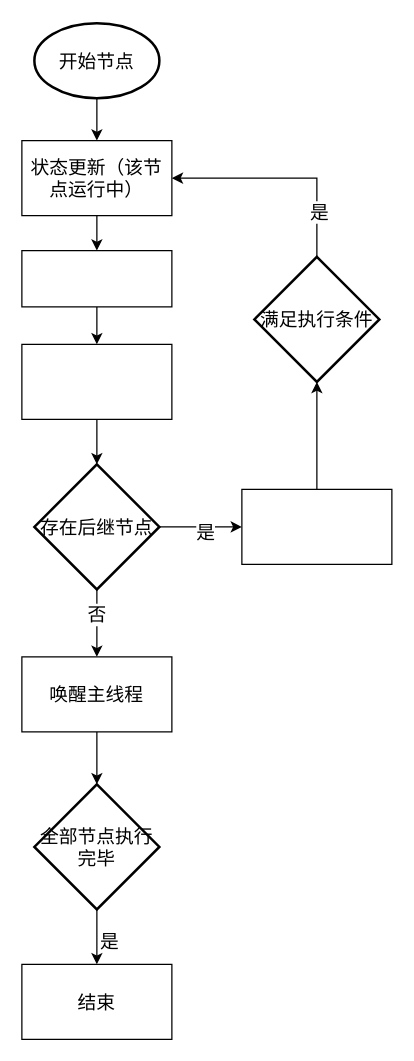
Image size: 414x1061. Some labels were removed from this diagram. The centre of each missing label's shape, as x and y in pixels:
"唤醒后继节点" belongs at pixel 316 526.
"状态更新（该节点运行完成）" belongs at pixel 96 381.
"运行" belongs at pixel 96 278.
